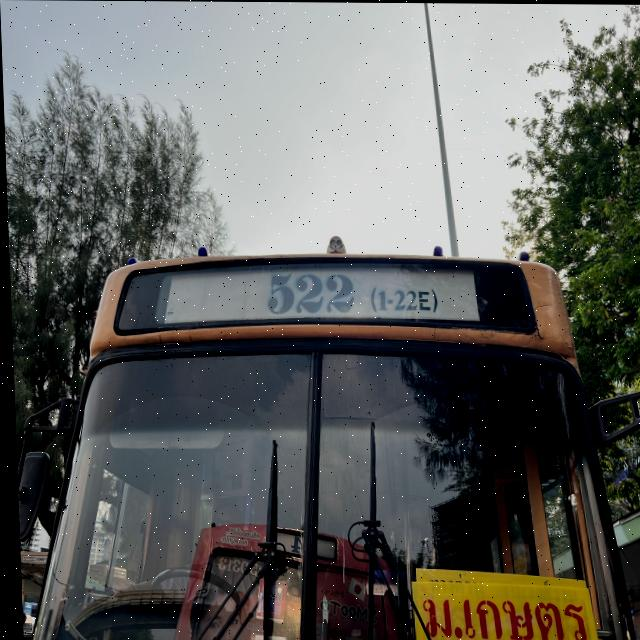BMTA-bus: (7, 226, 635, 640)
Bus-Line-Number: (244, 266, 446, 320)
Destination-Sign-Extra-Bus-Expressway: (407, 573, 595, 640)
